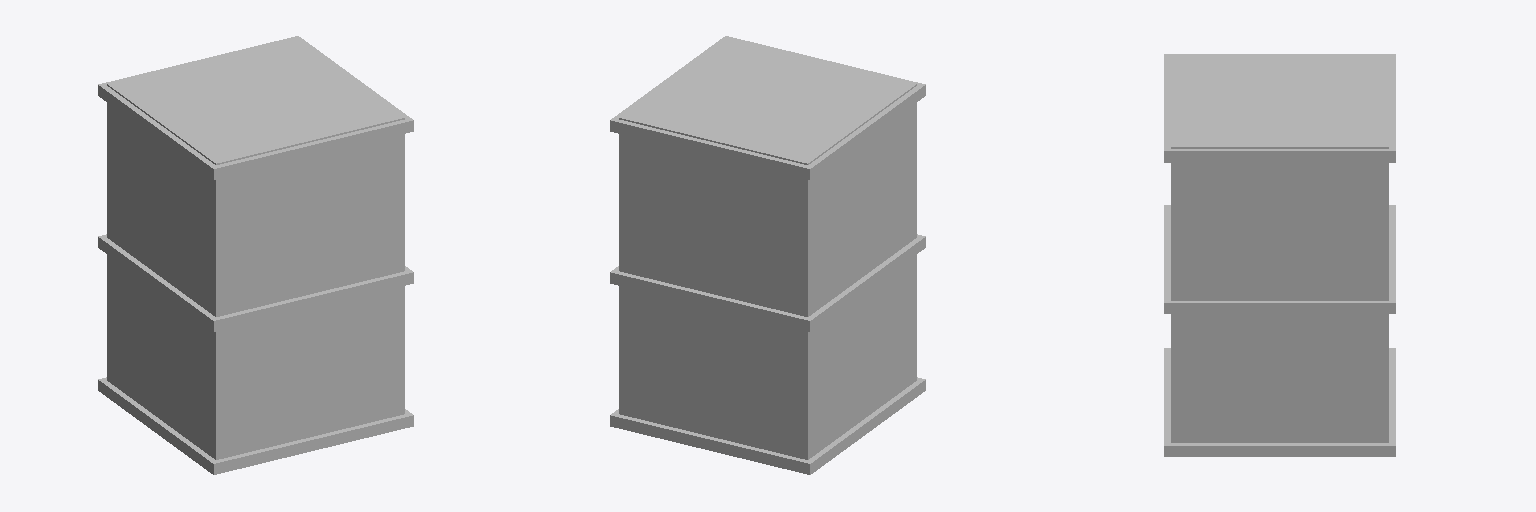
The model's file is Barrier.obj.
The picture shows the model from 3 angles: view 1: azimuth 30°, elevation 25°; view 2: azimuth 150°, elevation 25°; view 3: azimuth 270°, elevation 25°; orthographic projection.
Visible parts, largest first — view 1: Cube, Cube.003, Cube.002, Cube.001; view 2: Cube, Cube.003, Cube.002, Cube.001; view 3: Cube, Cube.003, Cube.001, Cube.002.
Part boxes in pixels (x1,y1,x2,y2): Cube: (107, 38, 404, 459); Cube.003: (98, 36, 413, 179); Cube.002: (98, 234, 413, 331); Cube.001: (98, 377, 413, 474); Cube: (619, 38, 916, 459); Cube.003: (610, 36, 925, 179); Cube.002: (610, 234, 925, 331); Cube.001: (610, 377, 925, 474); Cube: (1171, 55, 1388, 442); Cube.003: (1164, 54, 1395, 162); Cube.001: (1164, 348, 1395, 456); Cube.002: (1164, 205, 1395, 313).
Bounding box in the file's own units: 2.12 × 3.14 × 2.12.